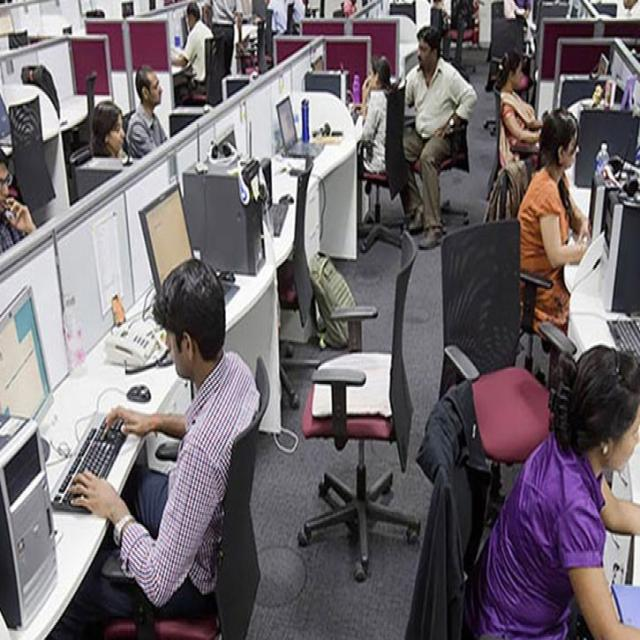keyboard-with-hands: (53, 411, 128, 509)
